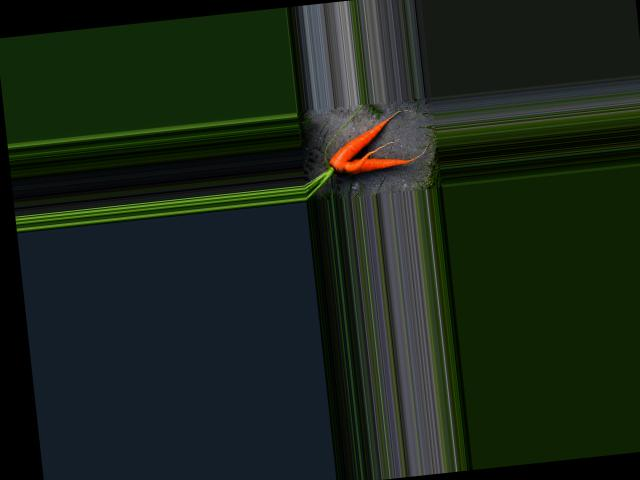carrot: (337, 142, 427, 184)
